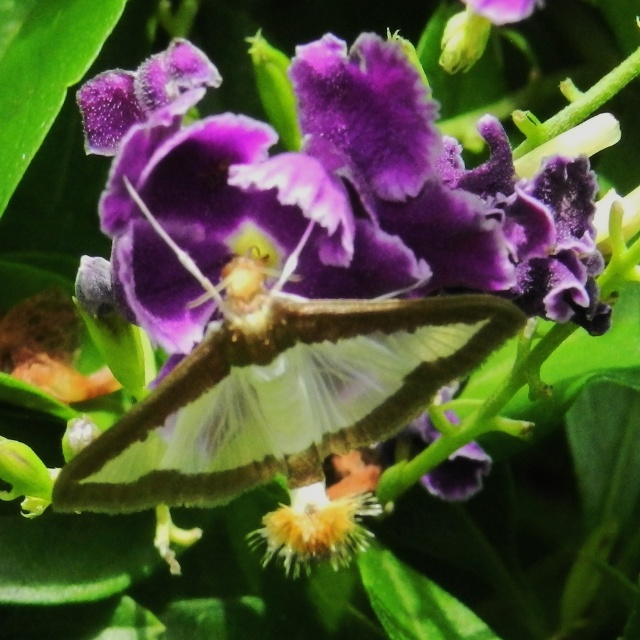Butterfly: (48, 175, 529, 512)
